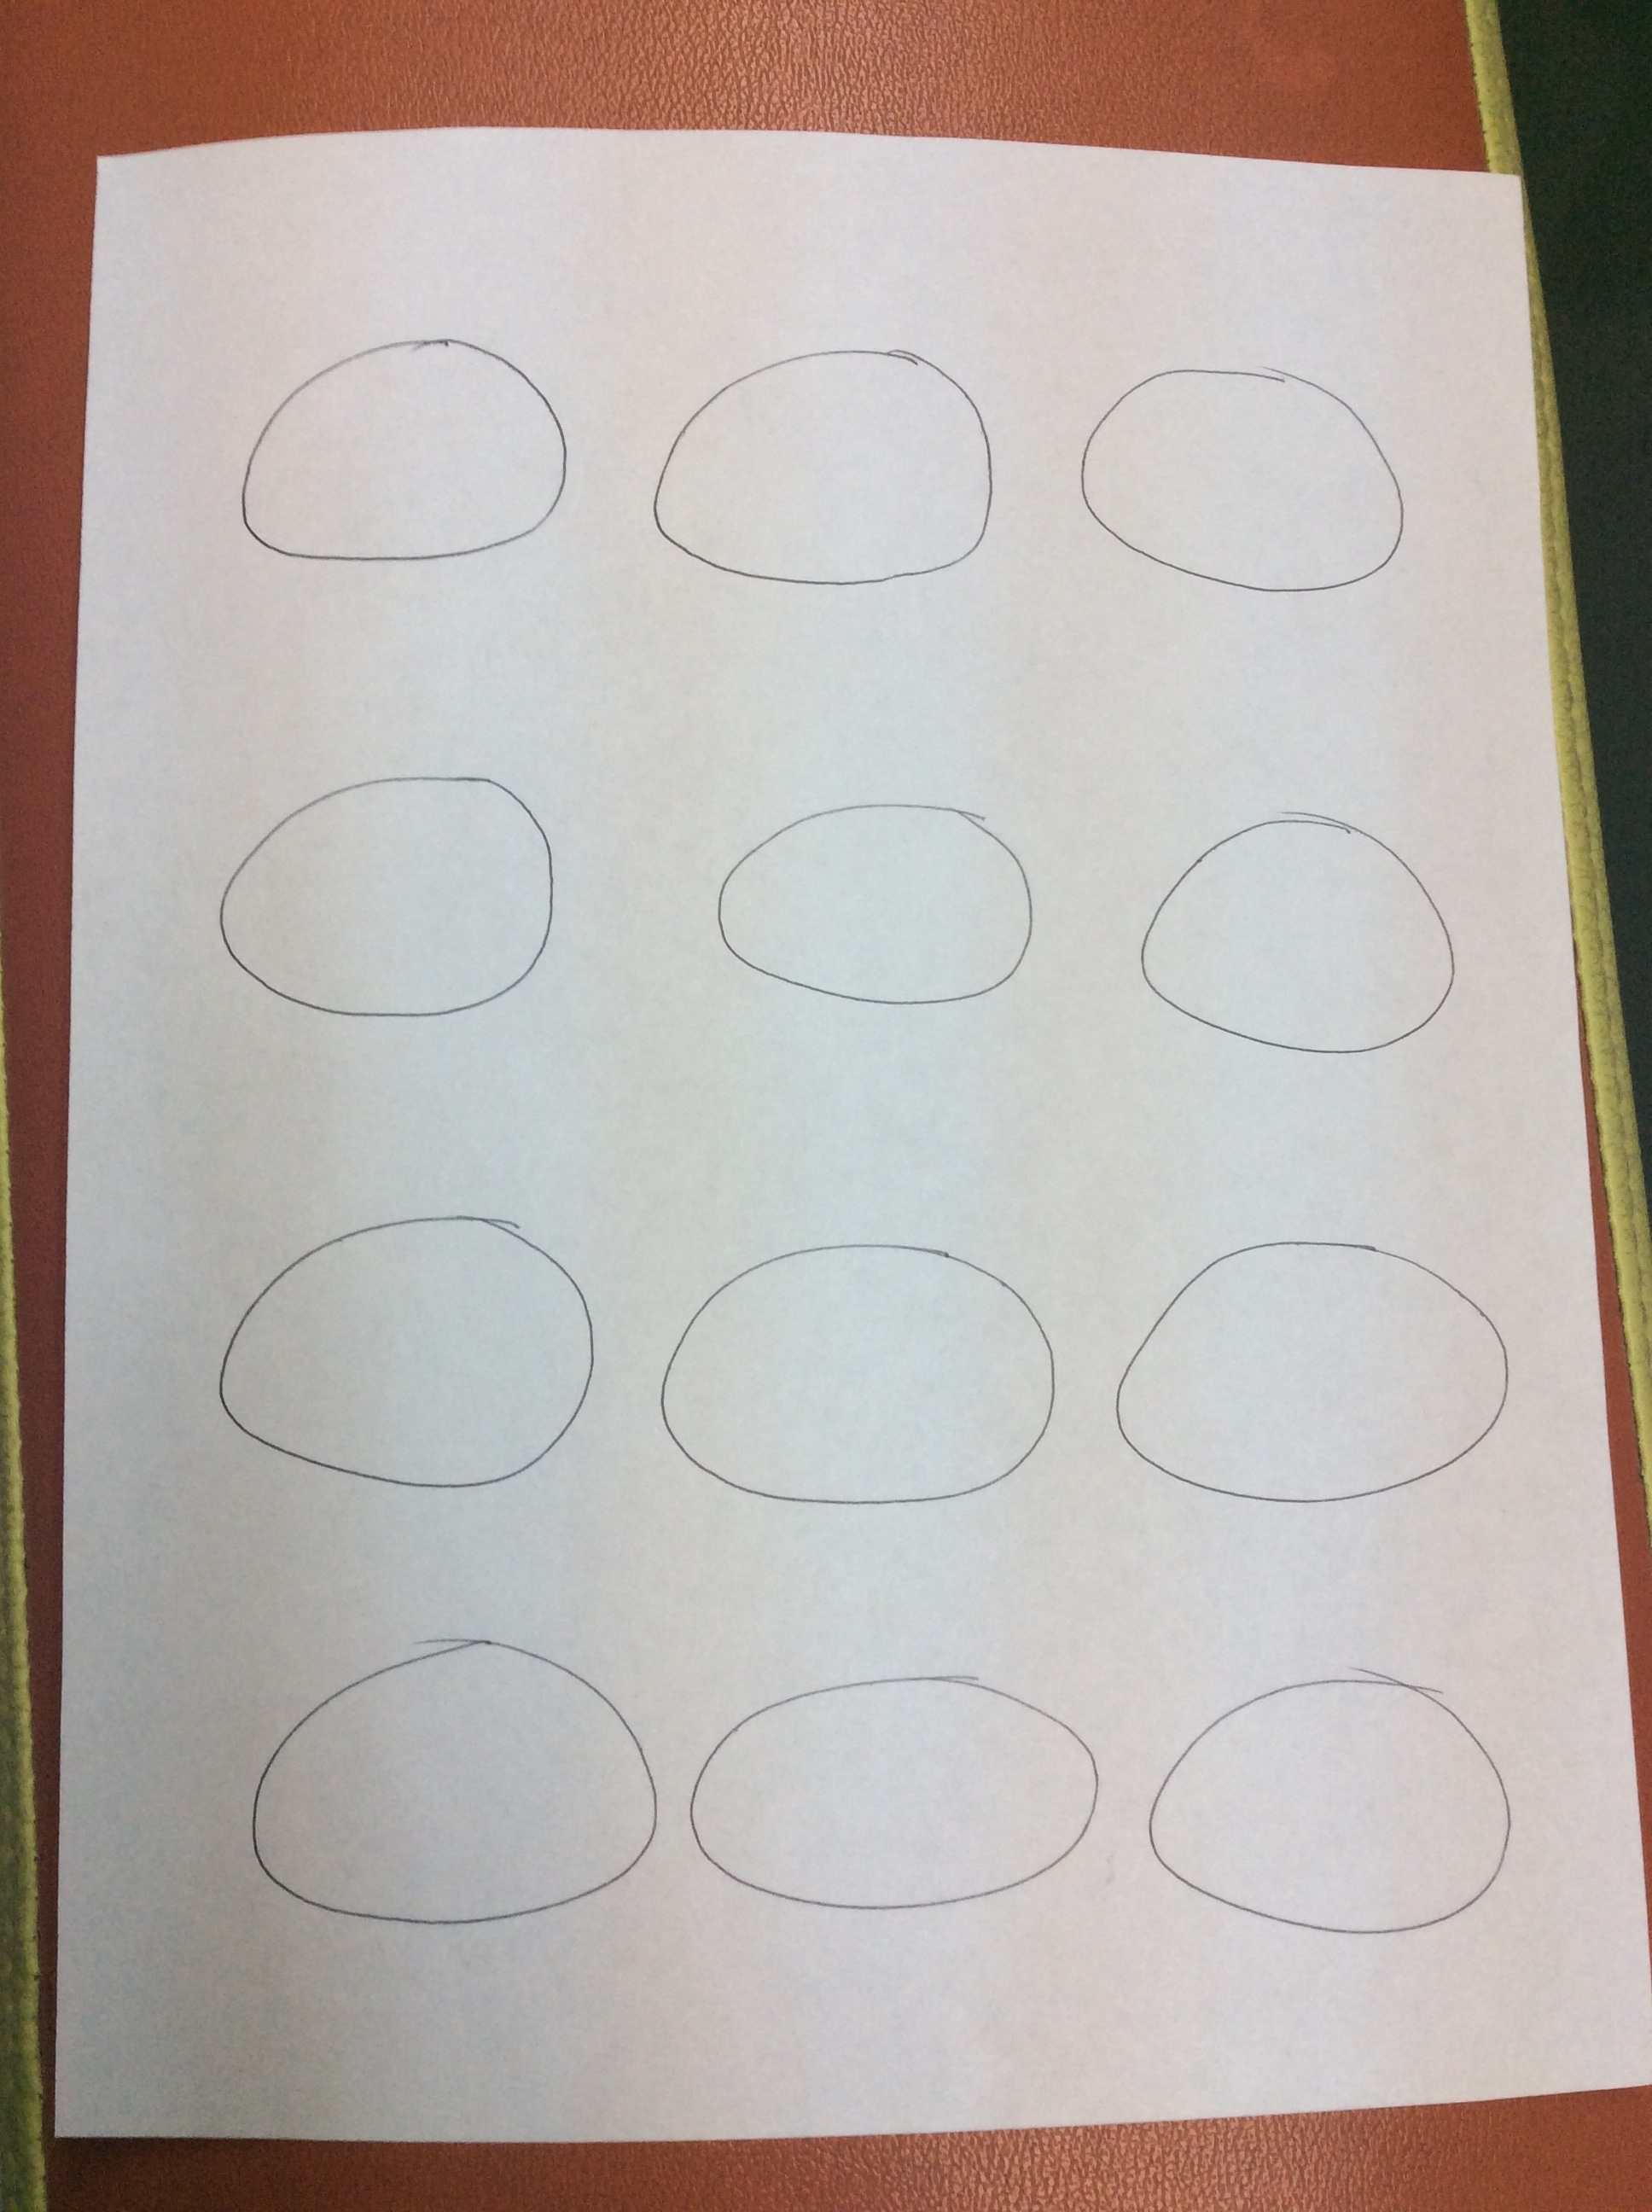start_end: (193, 1619, 668, 1936), (168, 1192, 606, 1513), (1093, 1218, 1544, 1528), (677, 1633, 1107, 1940), (1131, 1652, 1541, 1973), (630, 1232, 1074, 1523), (613, 311, 1015, 625), (1100, 765, 1473, 1086), (179, 741, 574, 1041), (210, 317, 578, 597), (1053, 328, 1414, 611), (680, 782, 1060, 1027)
